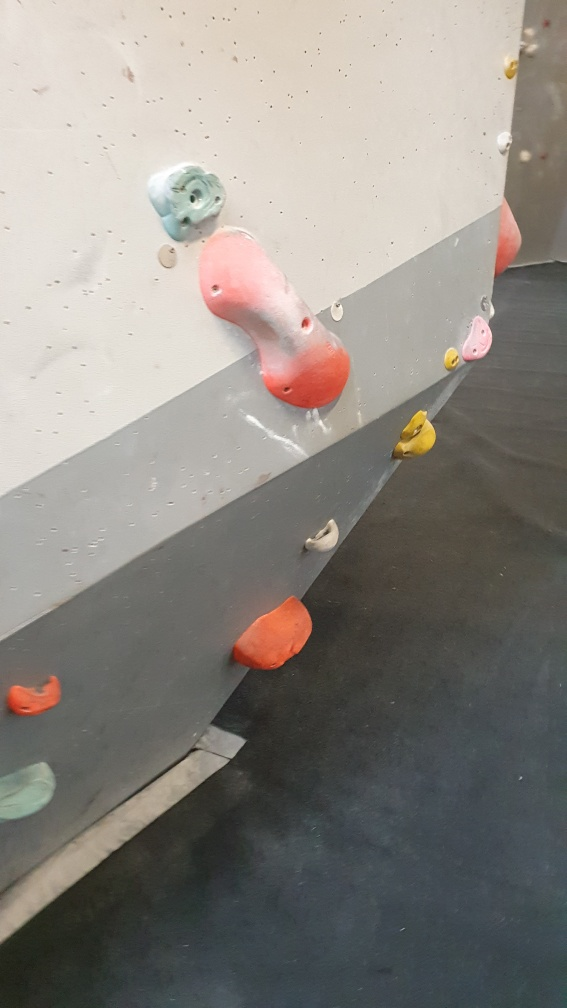Pinch: (191, 225, 354, 415)
